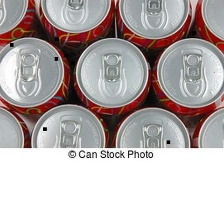can: (74, 37, 152, 118), (150, 35, 223, 116), (0, 36, 71, 115), (29, 103, 109, 154), (34, 0, 116, 47), (115, 0, 194, 48), (109, 105, 193, 148), (0, 0, 42, 45), (191, 99, 224, 150), (193, 0, 223, 54), (0, 104, 31, 148)
